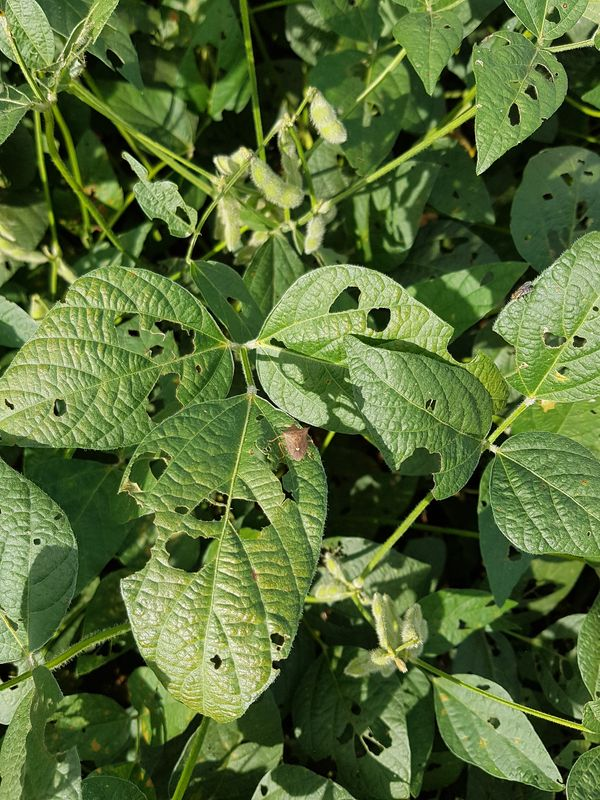Euschistus_heros_adulto: (268, 417, 315, 470)
